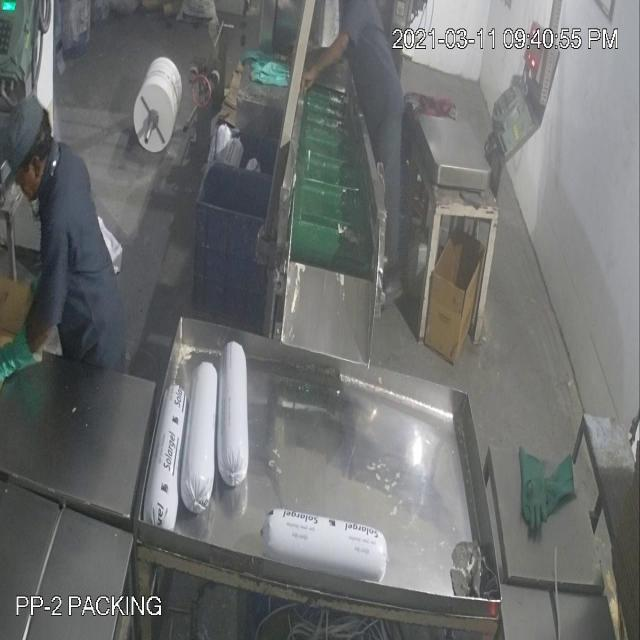No_Gloves: (299, 21, 353, 106)
